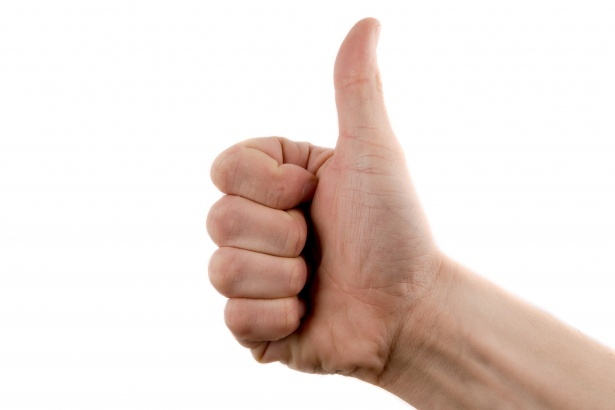thumbsup: (205, 15, 383, 372)
